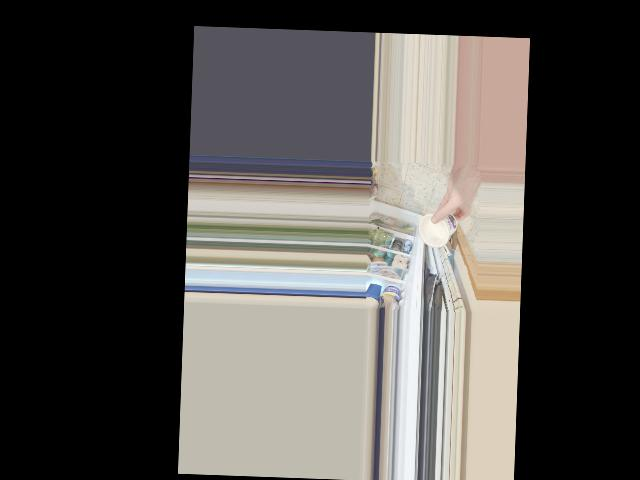cotage: (418, 209, 460, 250)
